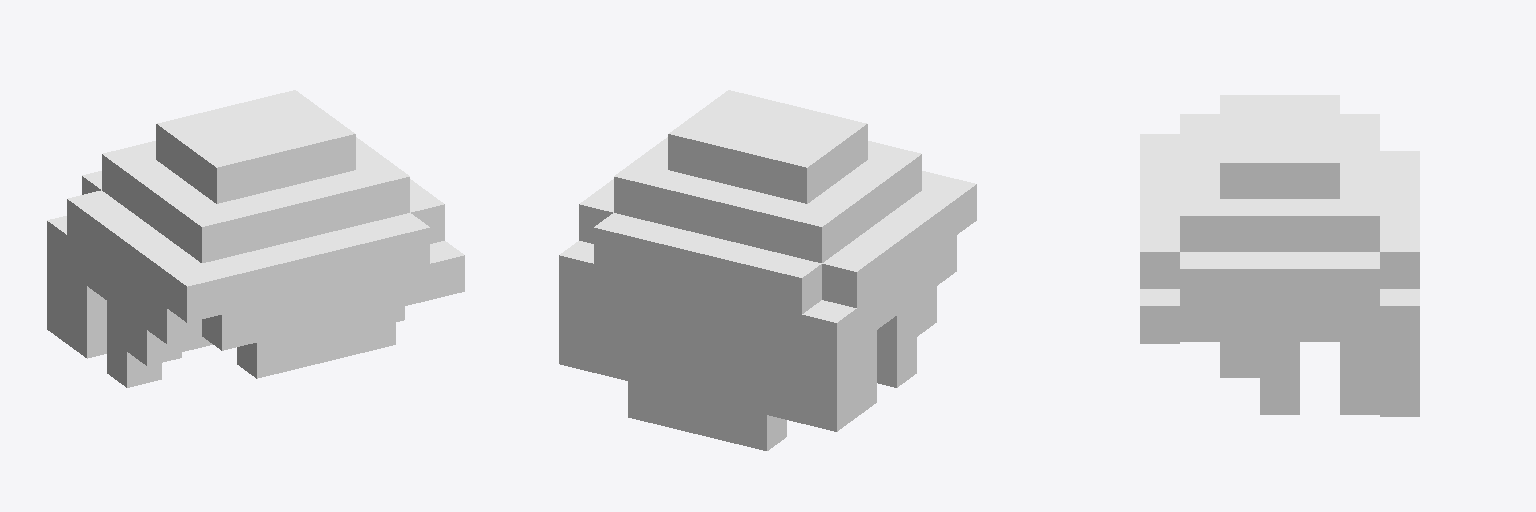
The model's file is grandma01-10.obj.
The picture shows the model from 3 angles: view 1: azimuth 30°, elevation 25°; view 2: azimuth 150°, elevation 25°; view 3: azimuth 270°, elevation 25°; orthographic projection.
Parts seen in each view (by area): view 1: grandma01-10; view 2: grandma01-10; view 3: grandma01-10.
Boxes of the visible parts, x1=… form: grandma01-10: x1=47, y1=90, x2=464, y2=387; grandma01-10: x1=559, y1=90, x2=976, y2=450; grandma01-10: x1=1140, y1=95, x2=1419, y2=416.
Bounding box in the file's own units: 8 × 7 × 7.